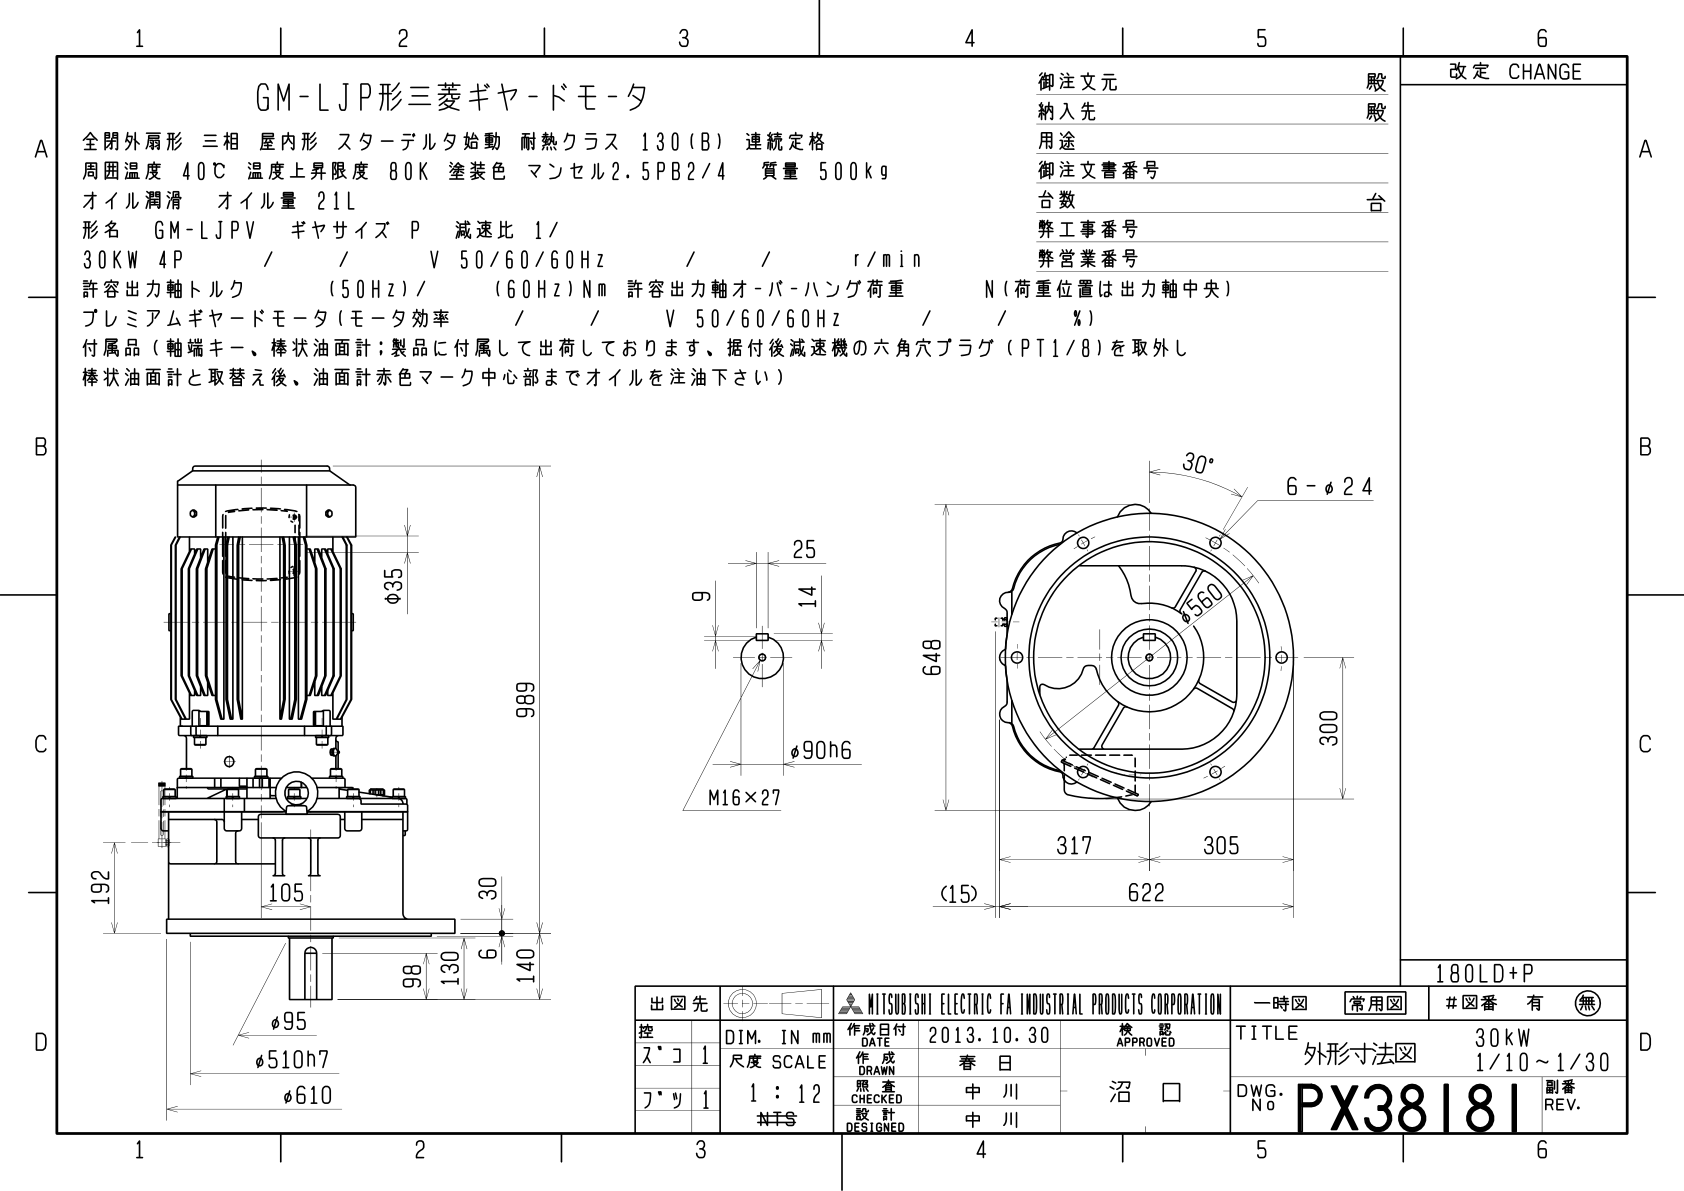GM_LJP_屋内_三相_立: (55, 421, 1397, 978)
